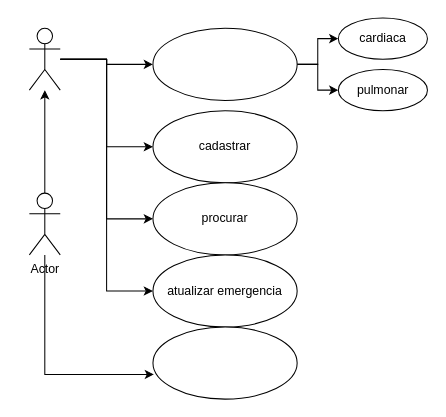
Some shapes in this 446 by 417 pixel diagram are drawn without their labels. Here are the shapes that lost their labels. From the top down, the centre of each, then its label:
(44,58): atendente
(224,63): acionar emergencia
(224,362): remover emergencia
